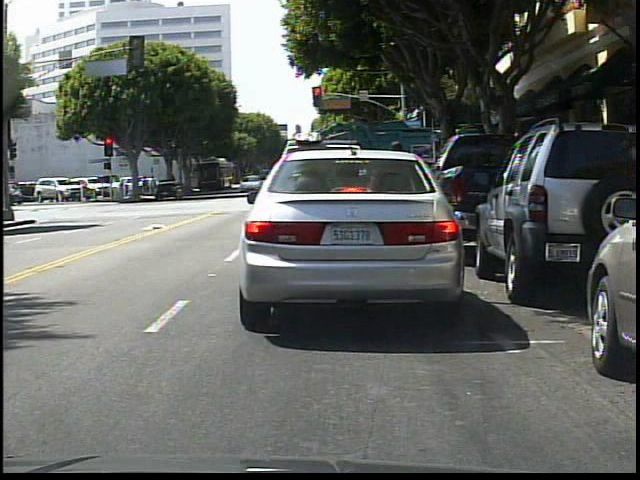person: (382, 138, 420, 266)
